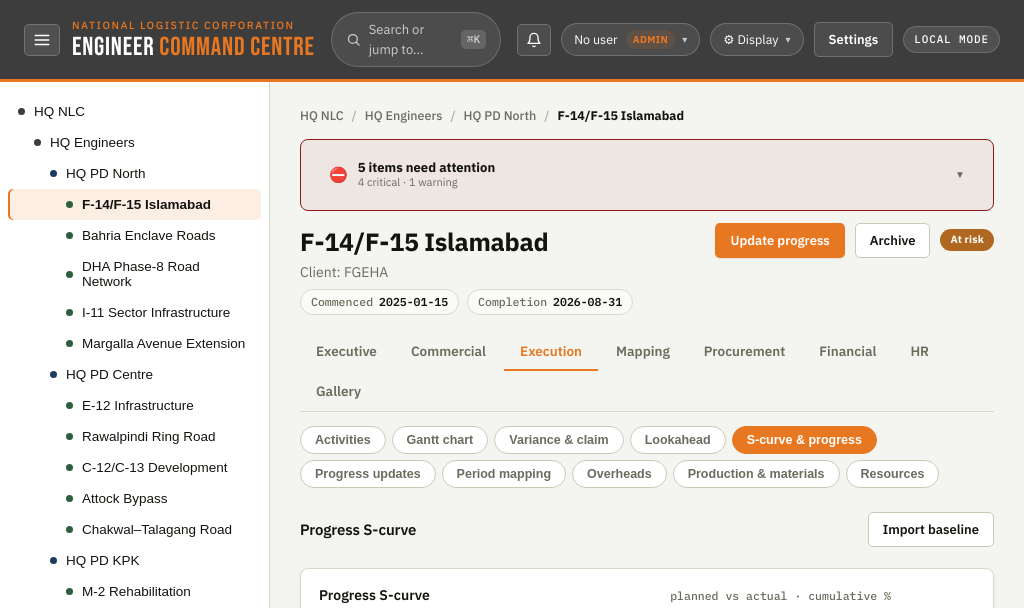
Test case: Phase 4 — execution › shows production runs, planned-vs-actual chart and material reconciliation
Expected: the heading "Progress S-curve" is shown, [300,518,416,541]
Click the tab "Production & materials" at (756, 474), box [673,460,840,488]
(page scrolled)
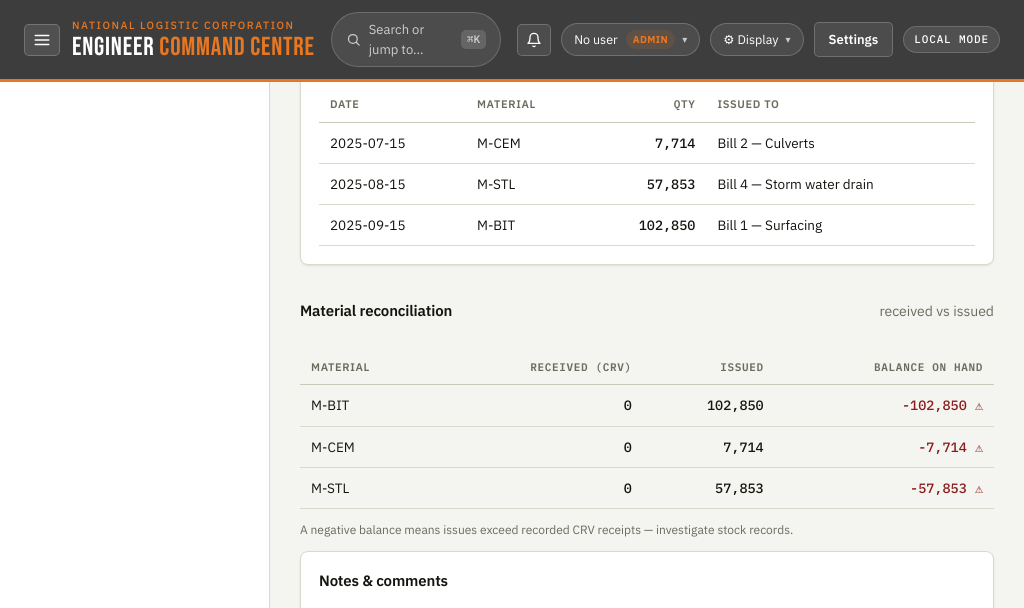
Now the text "M-CEM" in the row of "-7,714" is shown, box [311,438,355,456]
